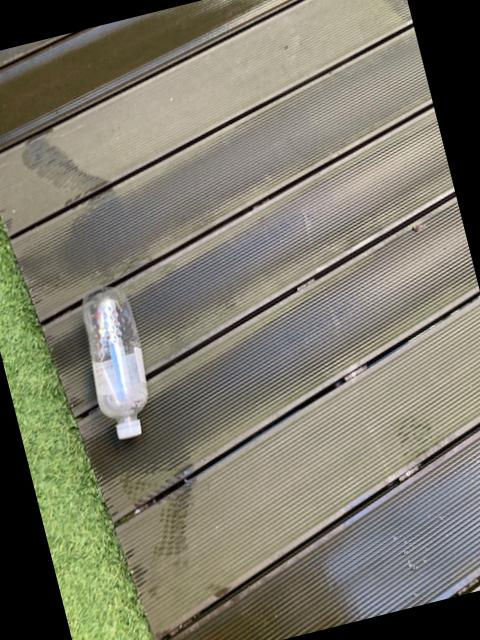plastic: (84, 285, 148, 437)
